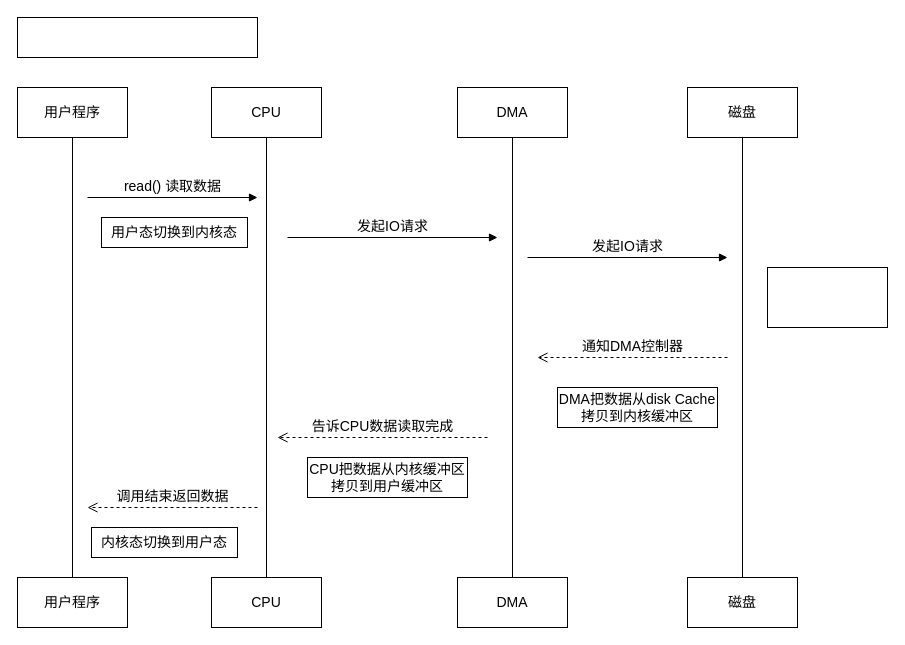
This 905x645 diagram has some shape labels left out. Each missing label, with the centre of its shape:
从磁盘读取数据时序图: point 137,37
把数据存储到 disk Cache: point 827,297
